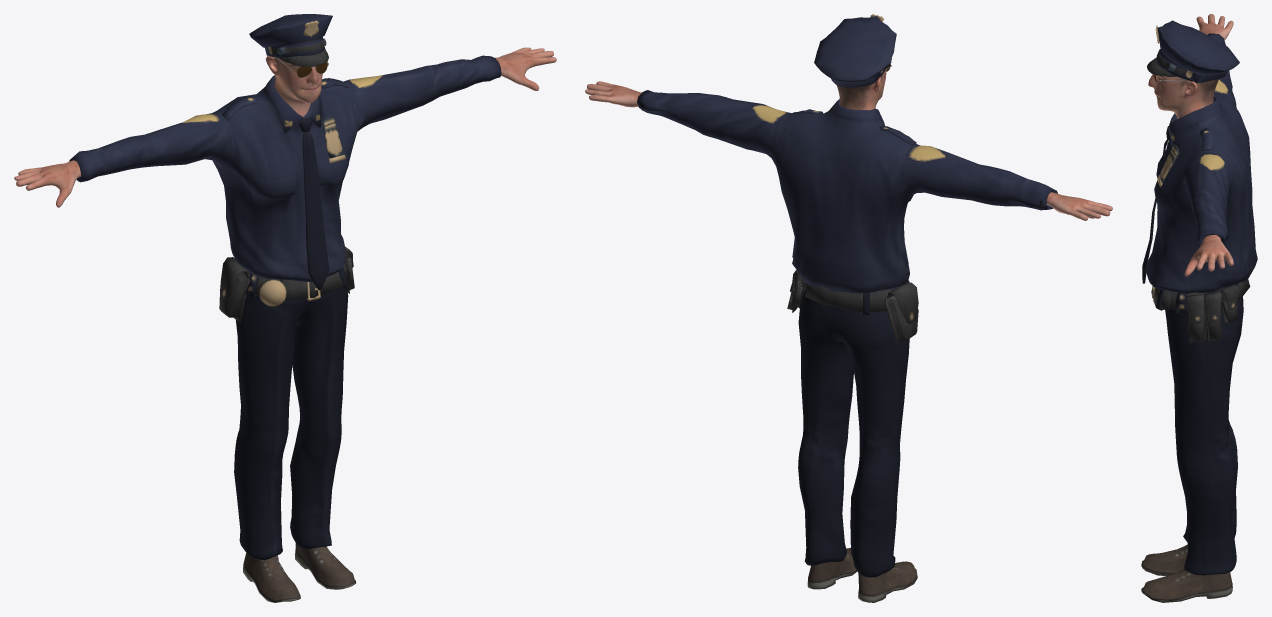
The model's file is mesh_Police.fbx.
3 renders of one model, left to right at view 1: azimuth 30°, elevation 25°; view 2: azimuth 150°, elevation 25°; view 3: azimuth 270°, elevation 25°, orthographic. The views are drawn at different scales.
Parts seen in each view (by area): view 1: char_Police; view 2: char_Police; view 3: char_Police.
Boxes of the visible parts, bbox=[...] form: char_Police: bbox=[14, 14, 556, 602]; char_Police: bbox=[585, 14, 1112, 602]; char_Police: bbox=[1141, 14, 1257, 602].
Bounding box in the file's own units: 201 × 205 × 39.03.
